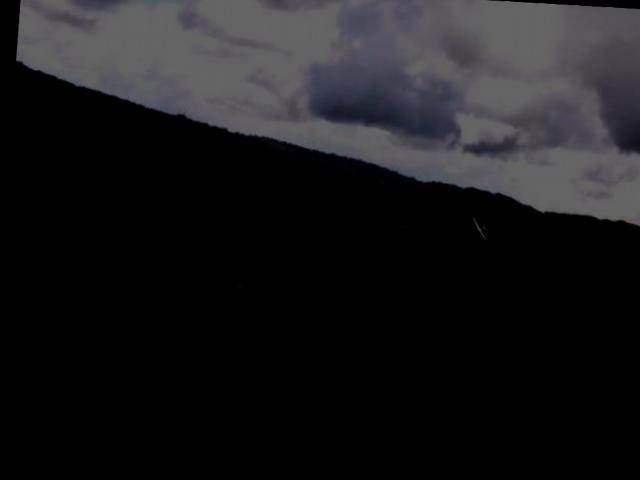iha: (462, 212, 491, 245)
